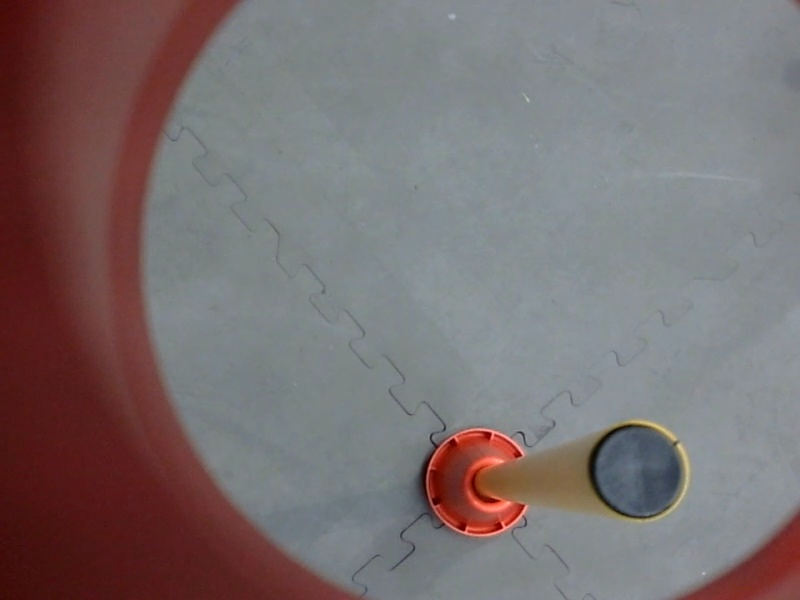tip: (581, 412, 698, 530)
